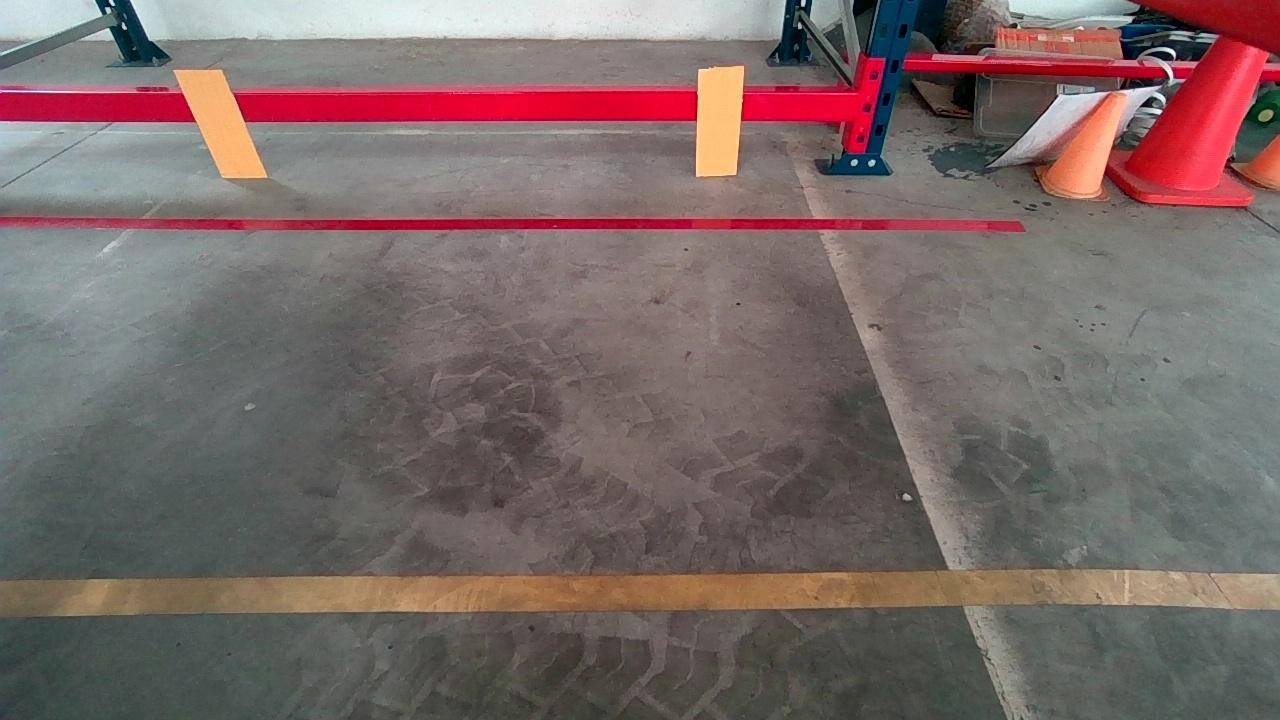orange_strip: (175, 69, 266, 175), (695, 67, 742, 175)
red_line: (0, 215, 1025, 227)
